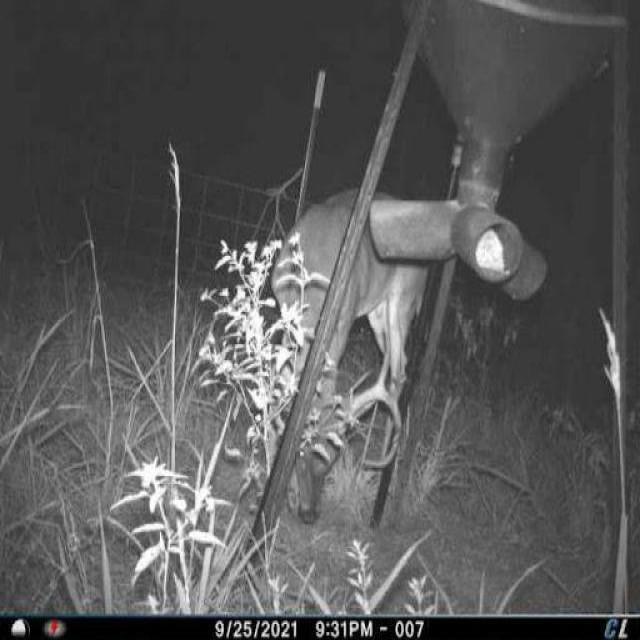deer: (258, 172, 442, 527)
